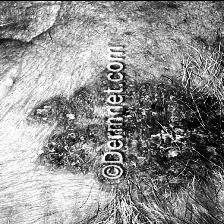Potentially Malignant Skin Tumors: (134, 98, 224, 180), (46, 132, 85, 163)
